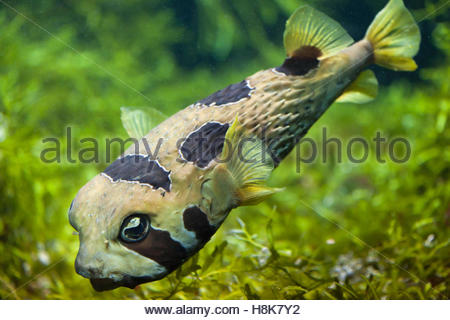Diodon_holocanthus: (40, 8, 424, 288)
